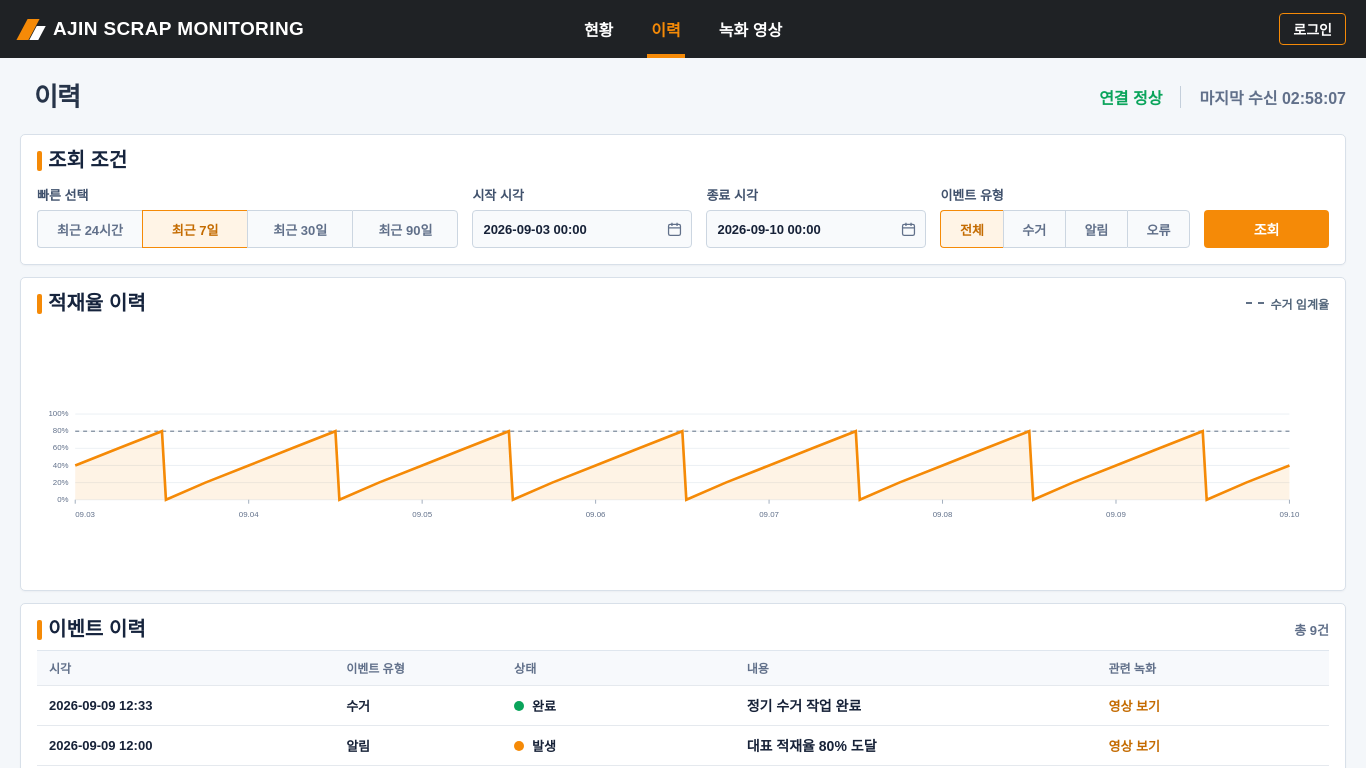
Test: 90일을 넘는 기간은 요청 전에 안내하고 요청하지 않는다
Click the button "최근 90일" at (405,229), box [352,210,458,248]
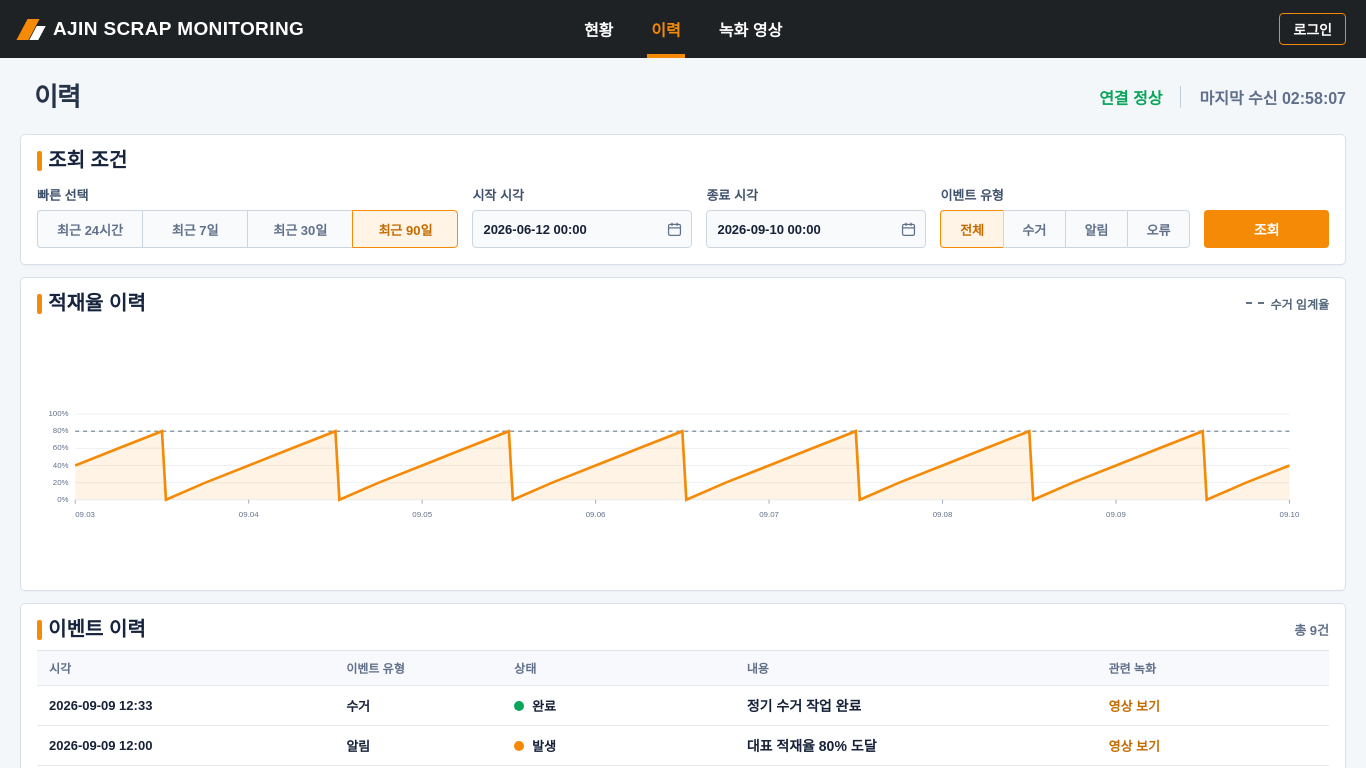
Replace the text in the field labelled "시작 시각" with "2000-01-01 00:00" at (582,229), box [472,210,692,248]
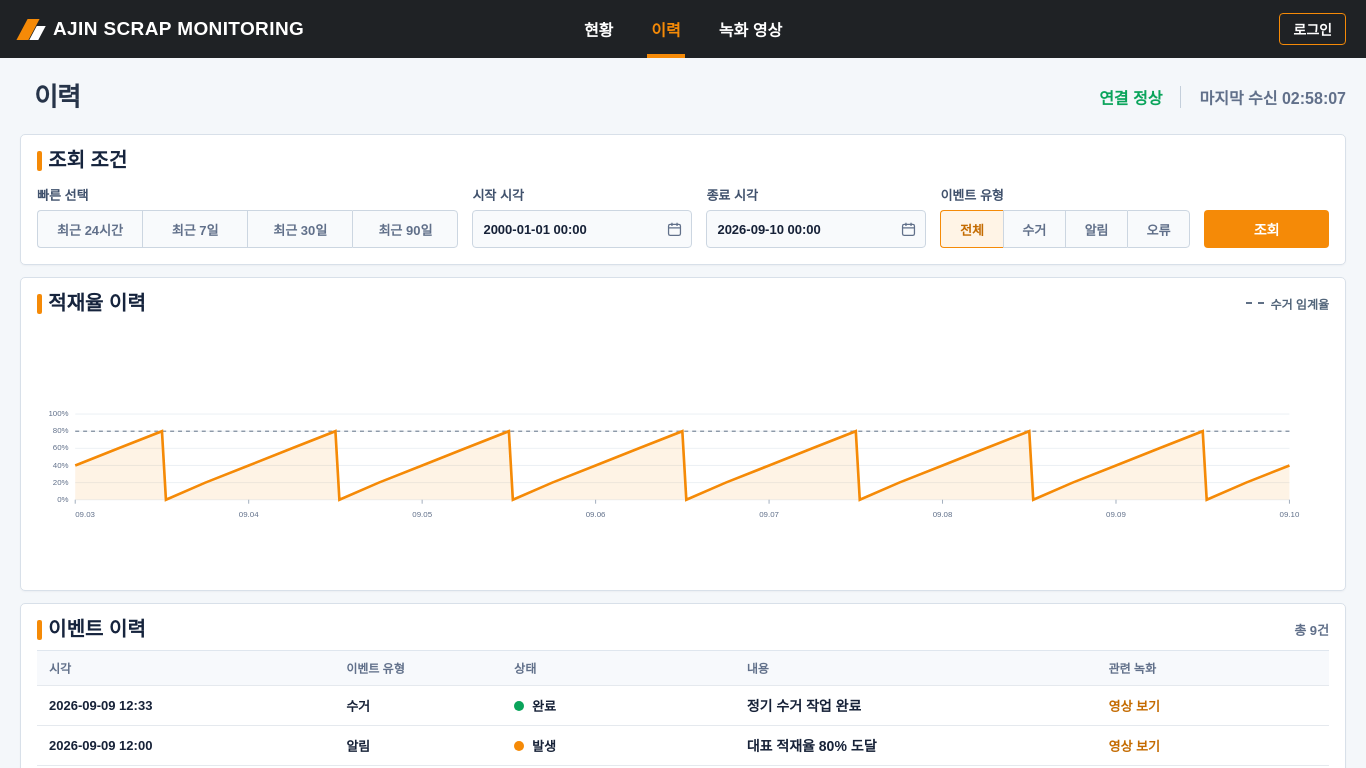
Click the button "조회" at (1267,229), box [1204,210,1329,248]
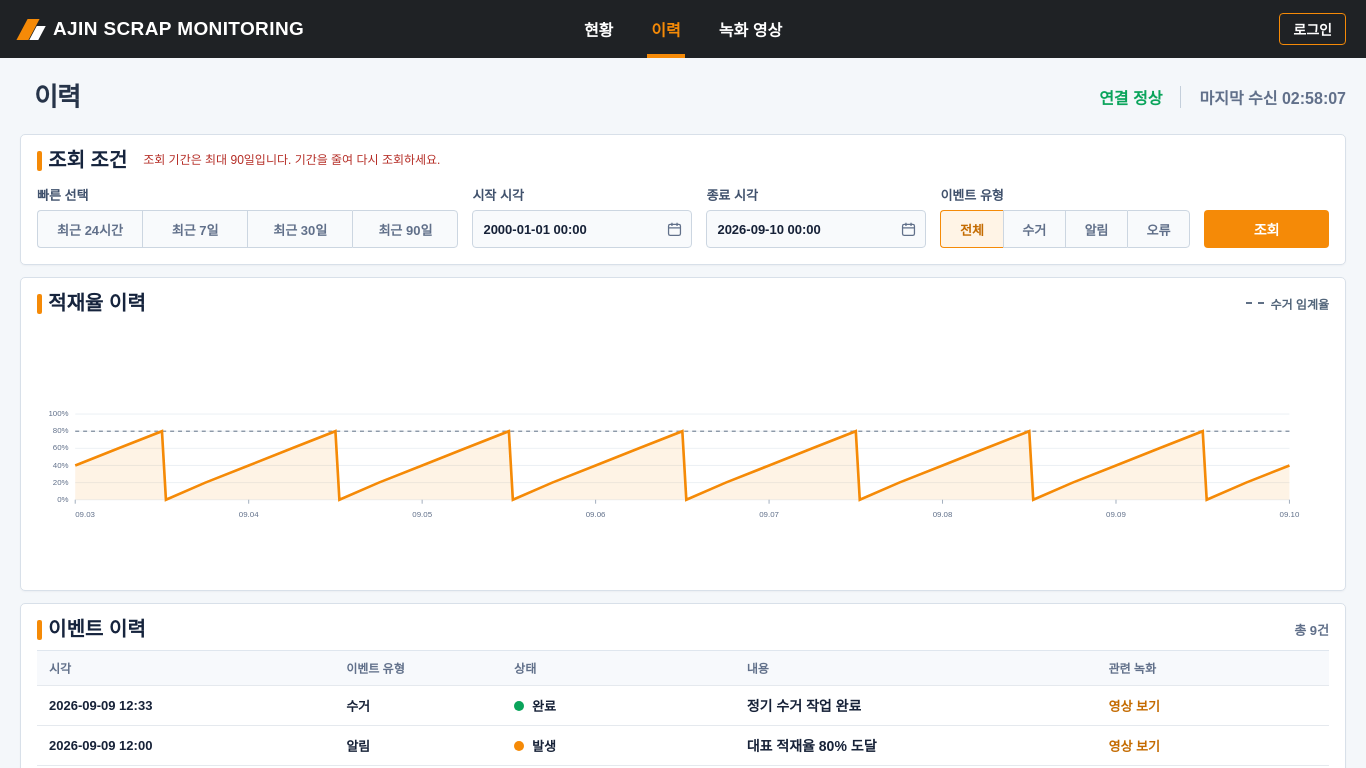
Result: the message "조회 기간은 최대 90일입니다. 기간을 줄여 다시 조회하세요." is shown at [143,150,440,170]
